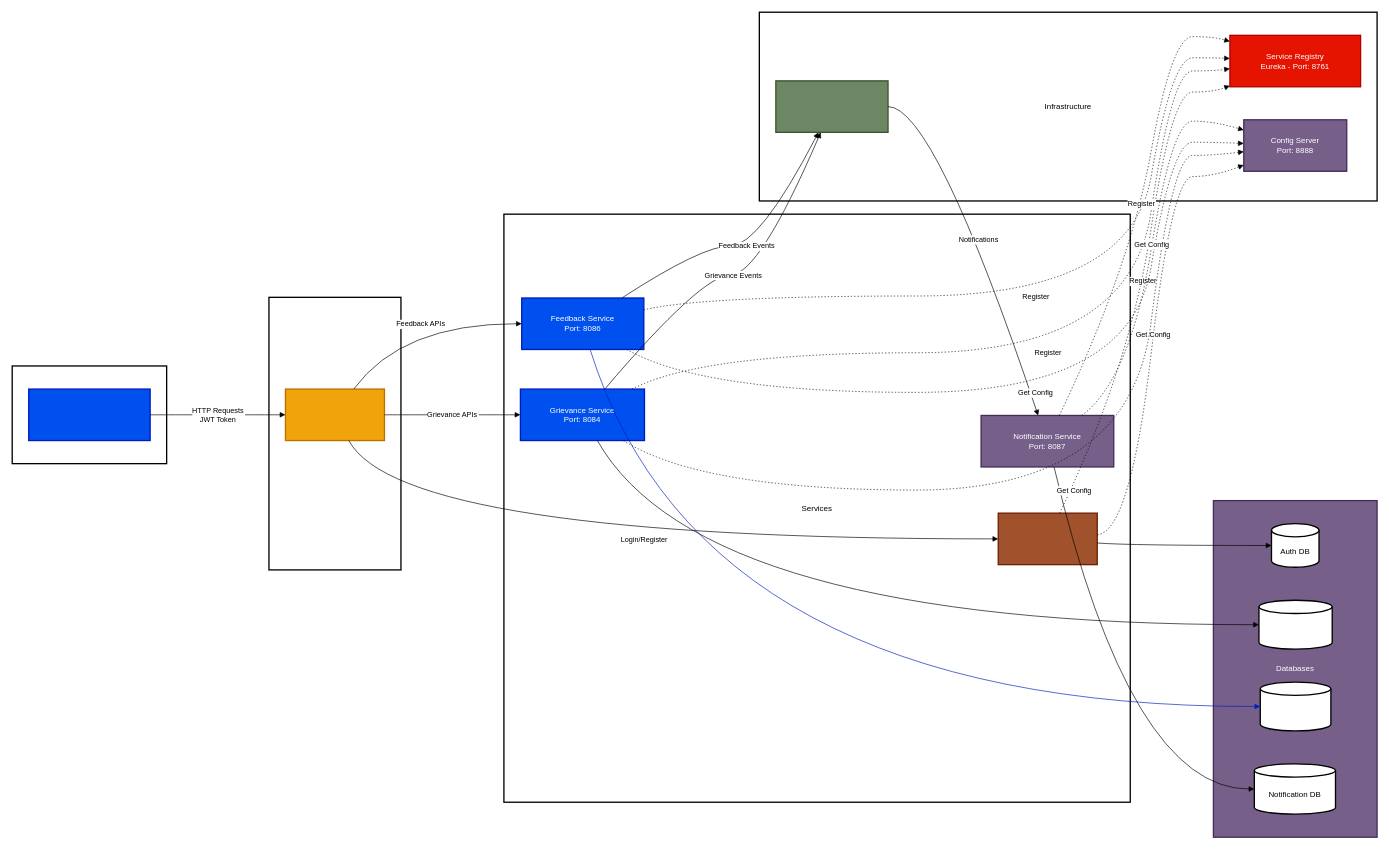
The diagram is 1389 pixels wide and 849 high, and some of its shapes have lost their labels. Each missing label, with the centre of its shape:
"API Gateway Port: 8080" belongs at (x=334, y=414).
"Auth Service Port: 8081" belongs at (x=1047, y=538).
"Client Angular Frontend" belongs at (x=89, y=414).
"Feedback DB" belongs at (x=1295, y=706).
"Grievance DB" belongs at (x=1295, y=624).
"RabbitMQ Message Broker" belongs at (x=831, y=106).
